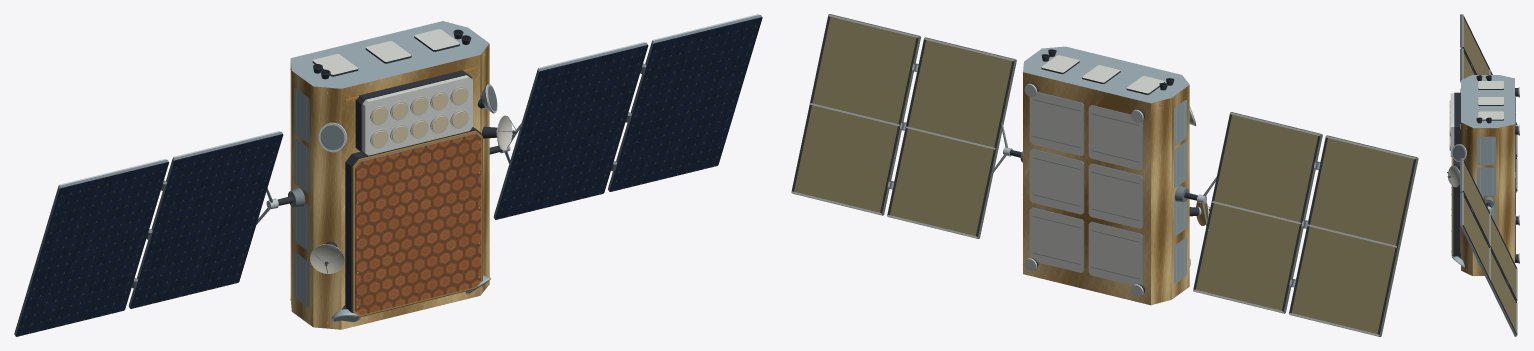
Rendered from iridium.obj.
3 views of the same model, side by side, from view 1: azimuth 30°, elevation 25°; view 2: azimuth 150°, elevation 25°; view 3: azimuth 270°, elevation 25° (orthographic). The views are drawn at different scales.
Parts seen in each view (by area): view 1: ELiTeBus_chassis, L_band_main_mission_antenna, Port_solar_panel_2, Starboard_solar_panel_1, Port_solar_panel_1, Starboard_solar_panel_2, Aireon_hosted_payload, End_equipment_and_thrusters, Gimballed_Ka_feeder_links, Four_crosslink_antennas, Port_array_drive_and_yoke; view 2: ELiTeBus_chassis, Anti_Earth_service_panels, Port_solar_panel_2, Starboard_solar_panel_1, Starboard_solar_panel_2, Port_solar_panel_1, End_equipment_and_thrusters, Port_array_drive_and_yoke; view 3: ELiTeBus_chassis, Starboard_solar_panel_2, Starboard_solar_panel_1, Port_solar_panel_2, End_equipment_and_thrusters, L_band_main_mission_antenna, Aireon_hosted_payload, Port_solar_panel_1, Anti_Earth_service_panels, Four_crosslink_antennas, Gimballed_Ka_feeder_links, Starboard_array_drive_and_yoke.
Boxes of the visible parts, box(x1,y1,x2,y2) form: ELiTeBus_chassis: box(290, 21, 489, 329); L_band_main_mission_antenna: box(345, 127, 482, 317); Port_solar_panel_2: box(14, 159, 168, 336); Starboard_solar_panel_1: box(493, 42, 648, 219); Port_solar_panel_1: box(128, 131, 283, 308); Starboard_solar_panel_2: box(608, 14, 762, 191); Aireon_hosted_payload: box(355, 70, 472, 155); End_equipment_and_thrusters: box(312, 29, 471, 79); Gimballed_Ka_feeder_links: box(310, 115, 517, 273); Four_crosslink_antennas: box(318, 84, 497, 322); Port_array_drive_and_yoke: box(256, 187, 305, 224); ELiTeBus_chassis: box(1023, 46, 1189, 305); Anti_Earth_service_panels: box(1024, 83, 1144, 297); Port_solar_panel_2: box(1289, 135, 1418, 336); Starboard_solar_panel_1: box(887, 37, 1016, 238); Starboard_solar_panel_2: box(791, 14, 920, 215); Port_solar_panel_1: box(1193, 112, 1322, 313); End_equipment_and_thrusters: box(1041, 49, 1174, 94); Port_array_drive_and_yoke: box(1174, 173, 1220, 230); ELiTeBus_chassis: box(1460, 75, 1514, 275); Starboard_solar_panel_2: box(1460, 192, 1517, 336); Starboard_solar_panel_1: box(1460, 158, 1517, 301); Port_solar_panel_2: box(1460, 14, 1517, 157); End_equipment_and_thrusters: box(1476, 75, 1503, 123); L_band_main_mission_antenna: box(1451, 157, 1460, 256); Aireon_hosted_payload: box(1449, 92, 1460, 156); Port_solar_panel_1: box(1460, 48, 1517, 192); Anti_Earth_service_panels: box(1515, 87, 1519, 263); Four_crosslink_antennas: box(1452, 144, 1466, 267); Gimballed_Ka_feeder_links: box(1447, 166, 1459, 187); Starboard_array_drive_and_yoke: box(1480, 196, 1498, 232).
Size of the model in its own units: 9.4 by 3.26 by 1.37.
15 materials, 3 textured.
